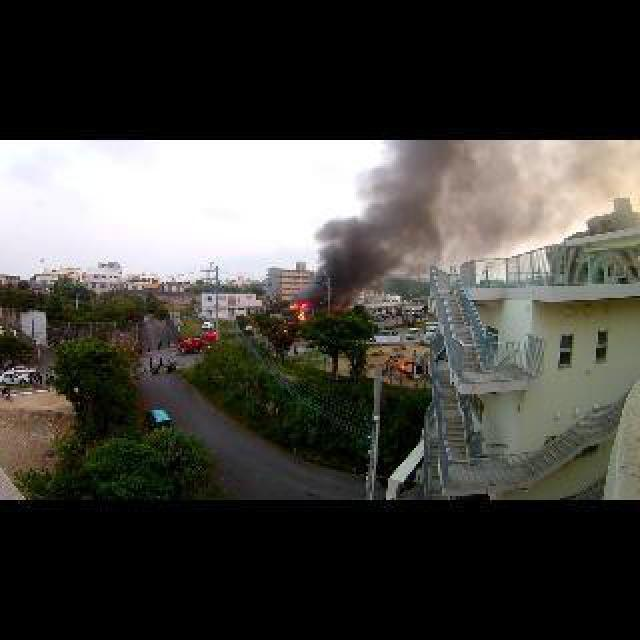Fire: (294, 296, 311, 321)
Smoke: (312, 138, 514, 289)
